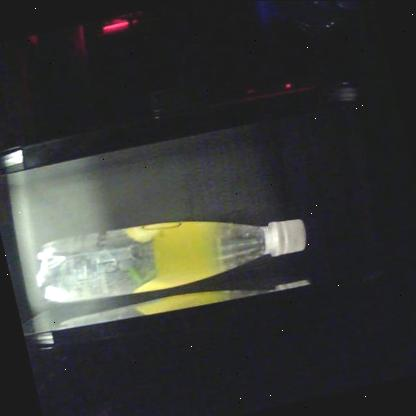Plastic Bottle: (36, 219, 306, 301)
